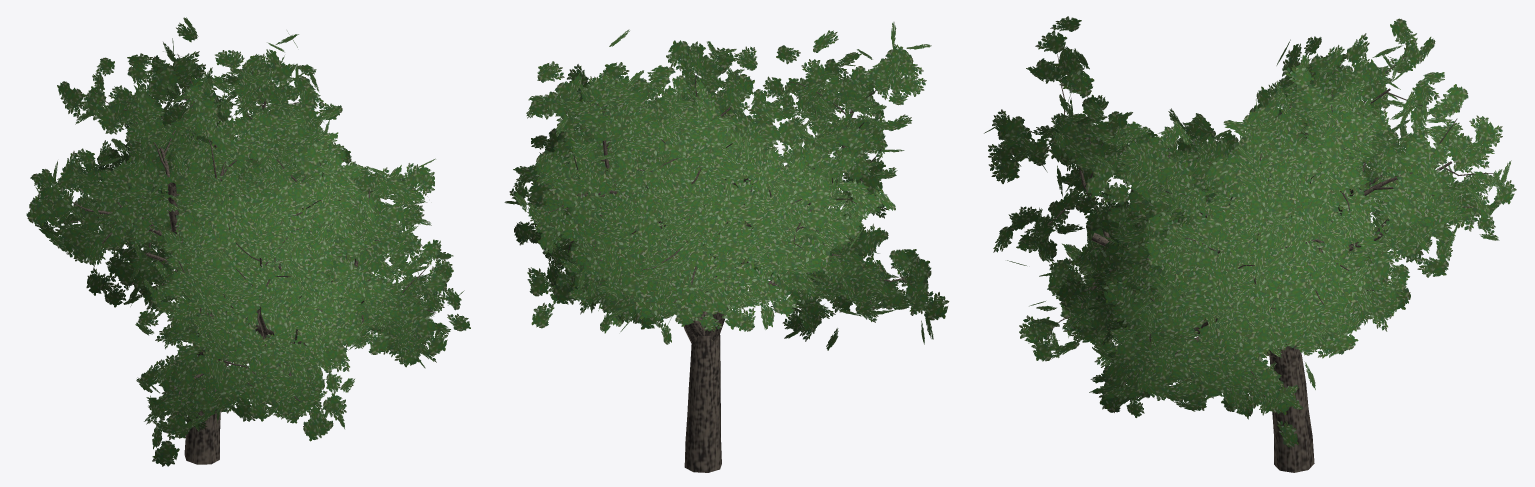
File: HO3_HolmOak_Mature_10m.glb
3 views of the same model, side by side, from view 1: azimuth 30°, elevation 25°; view 2: azimuth 150°, elevation 25°; view 3: azimuth 270°, elevation 25° (orthographic). The views are drawn at different scales.
Parts seen in each view (by area): view 1: HO3_leaves, HO3_wood; view 2: HO3_leaves, HO3_wood; view 3: HO3_leaves, HO3_wood.
Boxes of the visible parts, x1,y1,x2,y2 form: HO3_leaves: [26, 17, 470, 466]; HO3_wood: [44, 54, 435, 464]; HO3_leaves: [504, 22, 949, 350]; HO3_wood: [548, 72, 907, 472]; HO3_leaves: [984, 16, 1516, 447]; HO3_wood: [1016, 54, 1492, 472].
Size of the model in its own units: 10.34 by 10.01 by 11.12.
Materials: 2 (2 with a texture image).
